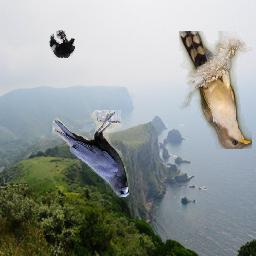Crow: (53, 111, 132, 198), (49, 30, 75, 58)
Cuckoo: (180, 31, 253, 149)
